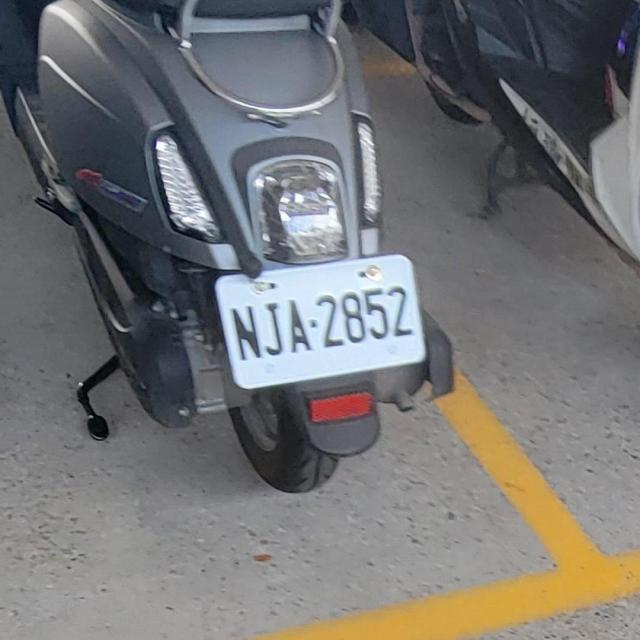W: (211, 249, 431, 393)
